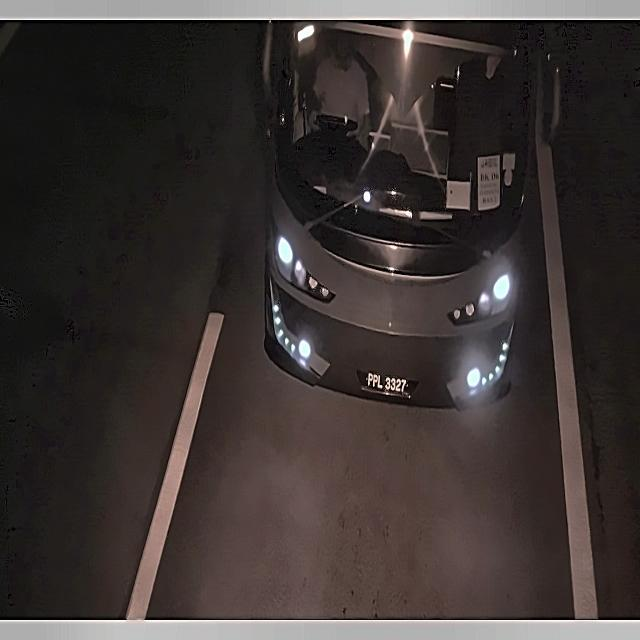car: (354, 364, 422, 406)
